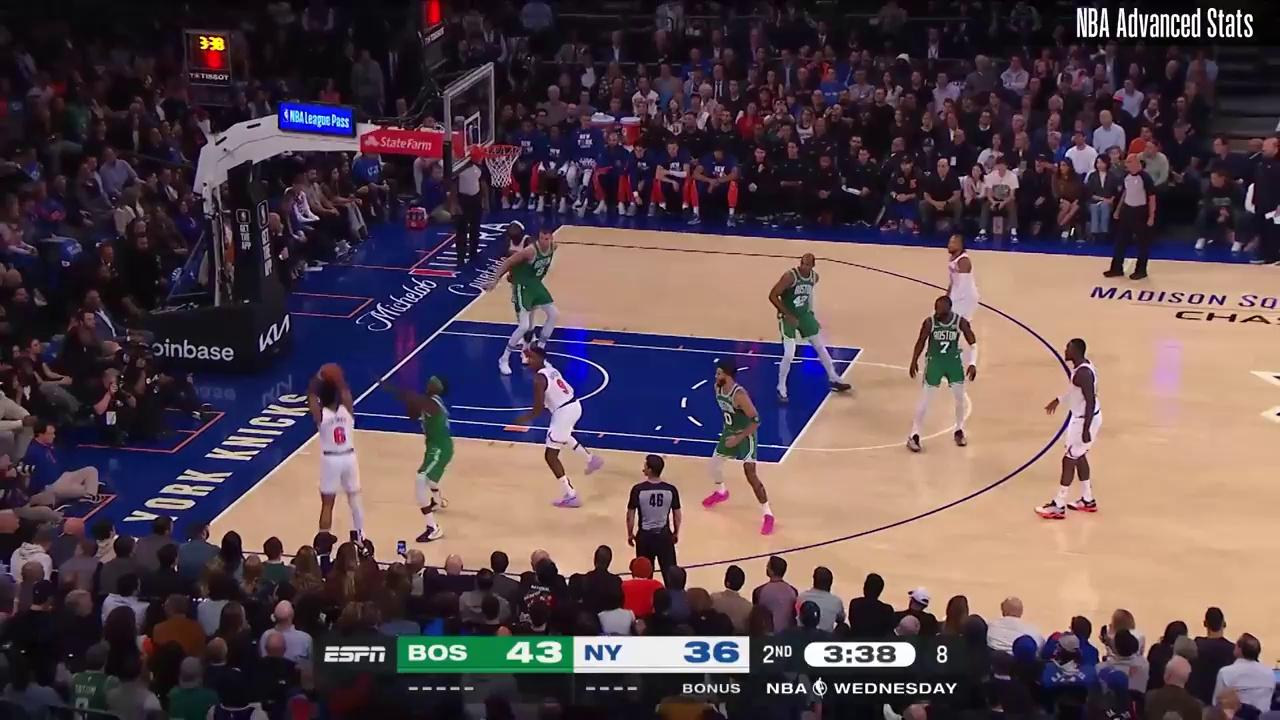b_dx: (557, 220, 570, 232)
free_adx: (854, 342, 868, 355)
free_asx: (774, 456, 787, 469)
free_bdx: (447, 313, 459, 325)
mid_dx: (1120, 267, 1127, 275)
referee: (624, 453, 685, 588), (1100, 154, 1156, 283), (450, 150, 491, 271)
team: (702, 363, 775, 535), (394, 370, 464, 548), (771, 250, 853, 397), (906, 296, 978, 449), (489, 229, 563, 367)
team1: (511, 342, 606, 512), (1033, 335, 1105, 519), (308, 360, 369, 549), (939, 235, 983, 381), (505, 218, 538, 351)
timer: (816, 639, 901, 673)
